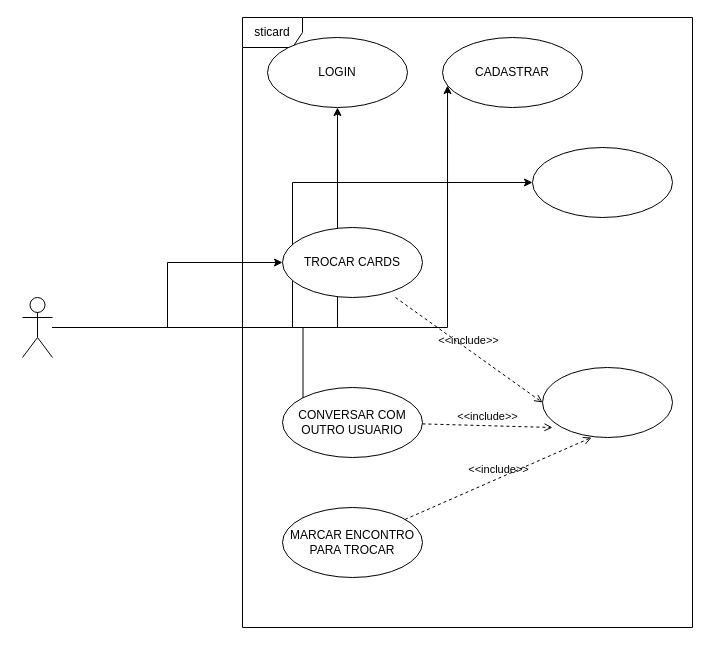
The diagram is 710 pixels wide and 645 high, and some of its shapes have lost their labels. The box of each missing label's shape, as (x1, y1, x2, y2) in pixels:
CADASTRAR CARDS: (532, 146, 672, 218)
MATCH COM OUTRO USUARIO: (542, 366, 672, 438)
Usuário: (22, 296, 52, 358)
